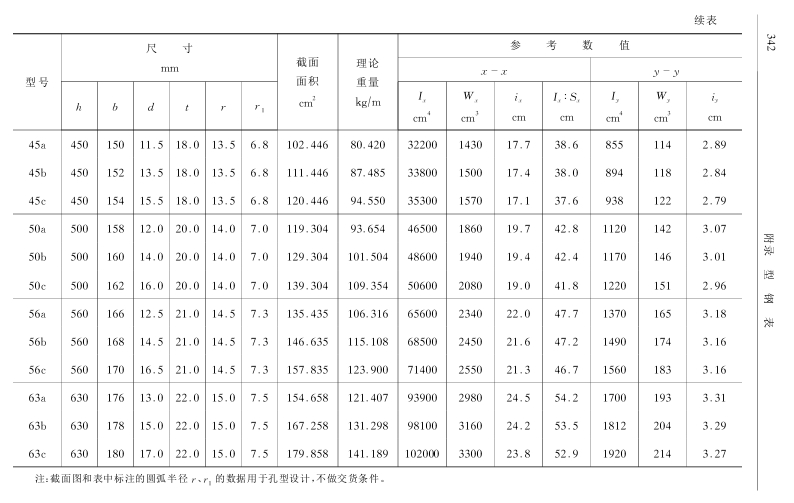table: (10, 31, 756, 468)
